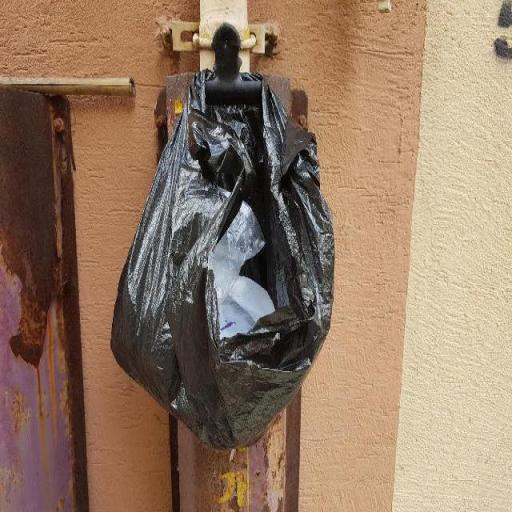plastic-bag: (109, 70, 337, 450)
